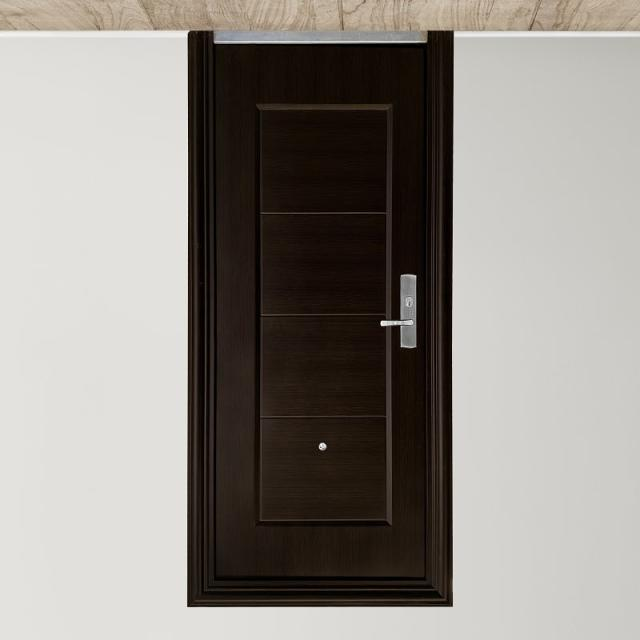door: (188, 31, 451, 607)
